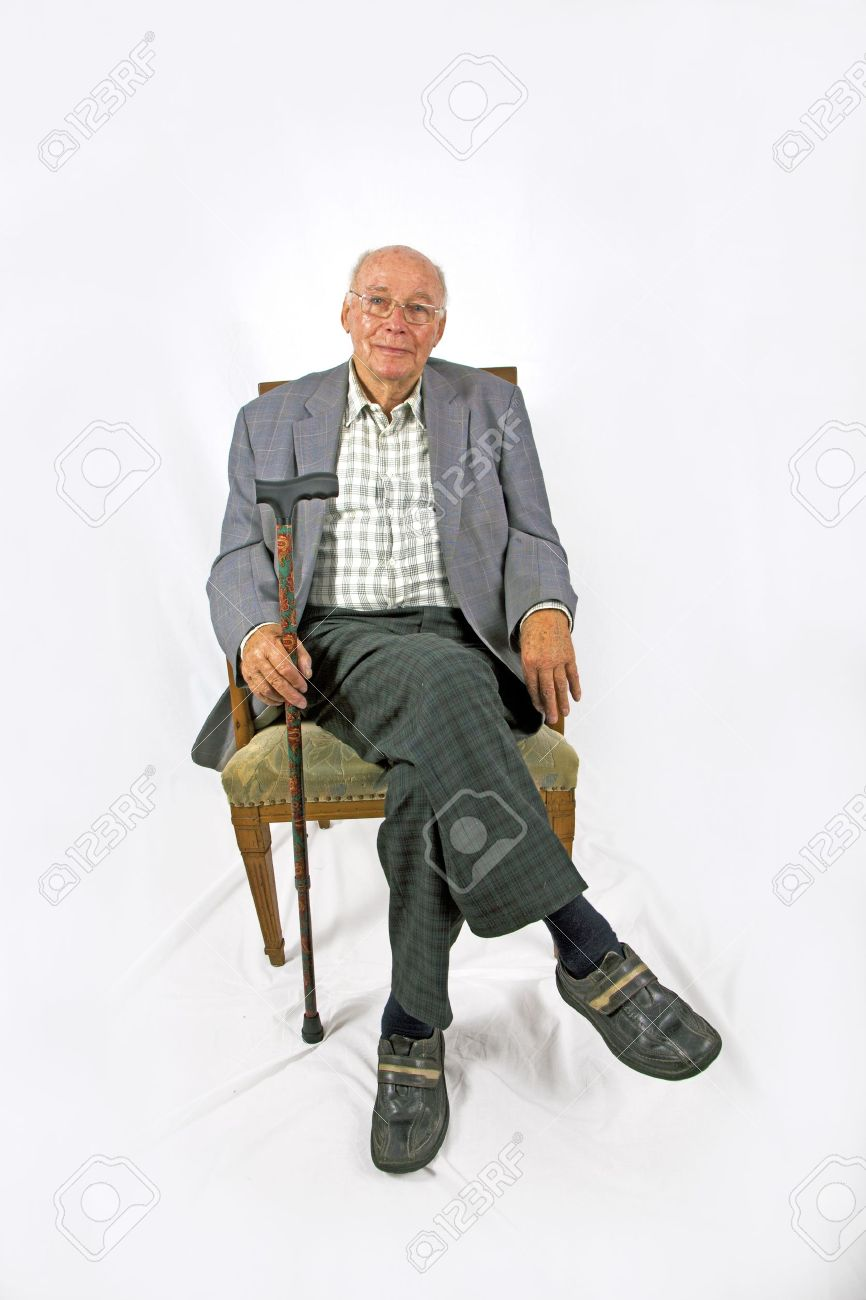chairs: (208, 372, 590, 966)
